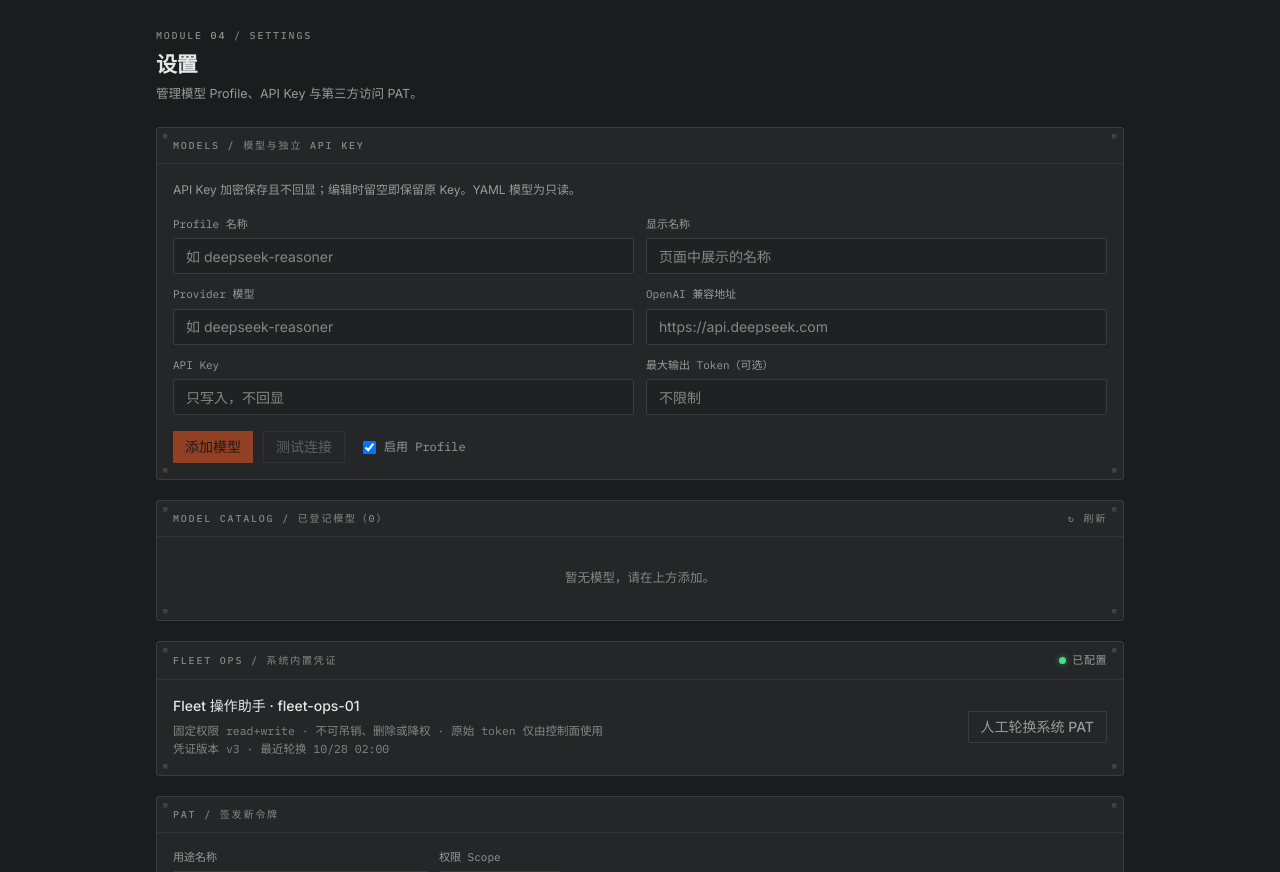
Test: 系统 Fleet 操作凭证设置 › 人工轮换需要确认且不回显 token
Click the button "人工轮换系统 PAT". click: (1037, 727)
box: [968,711,1107,743]
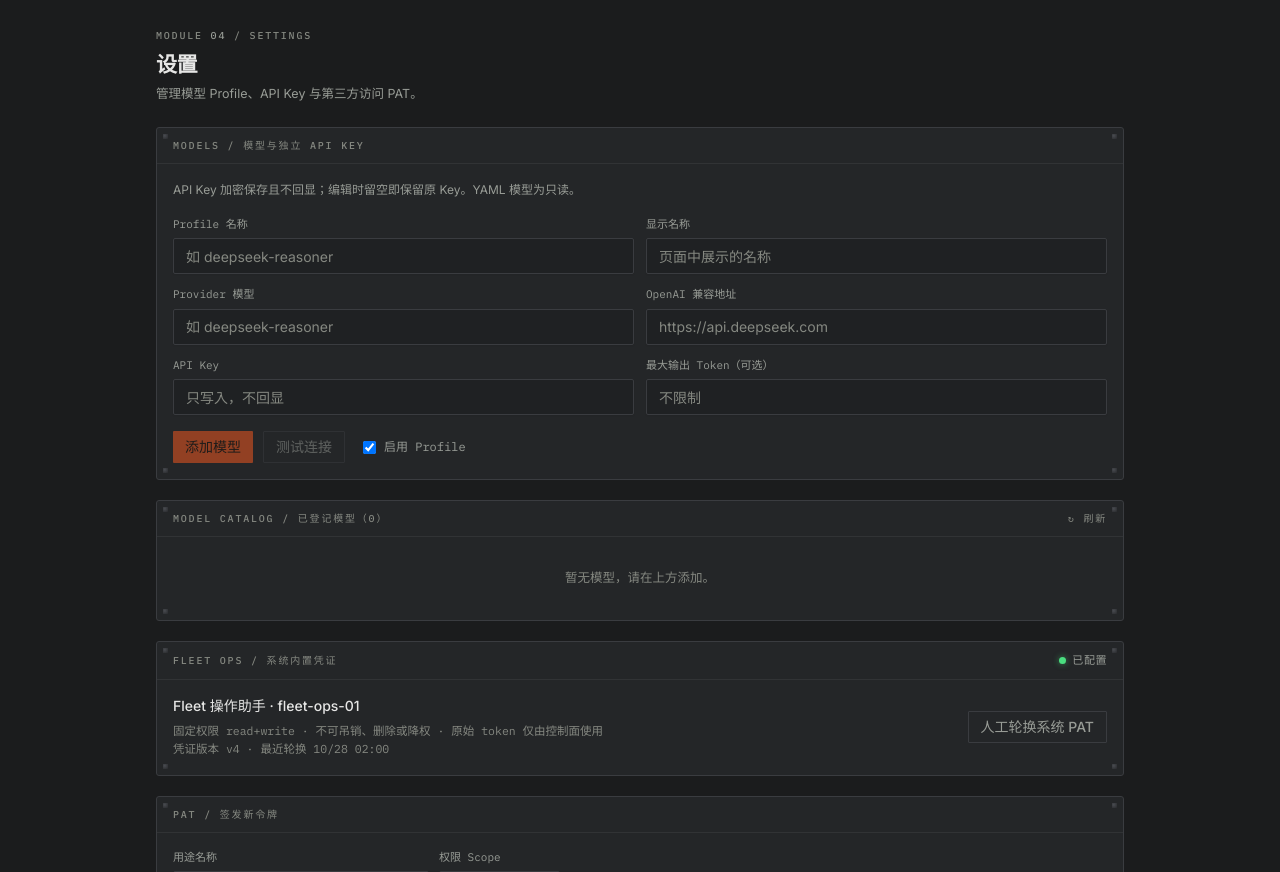
Now the text "凭证版本 v4" is shown, box [173,722,603,759]
